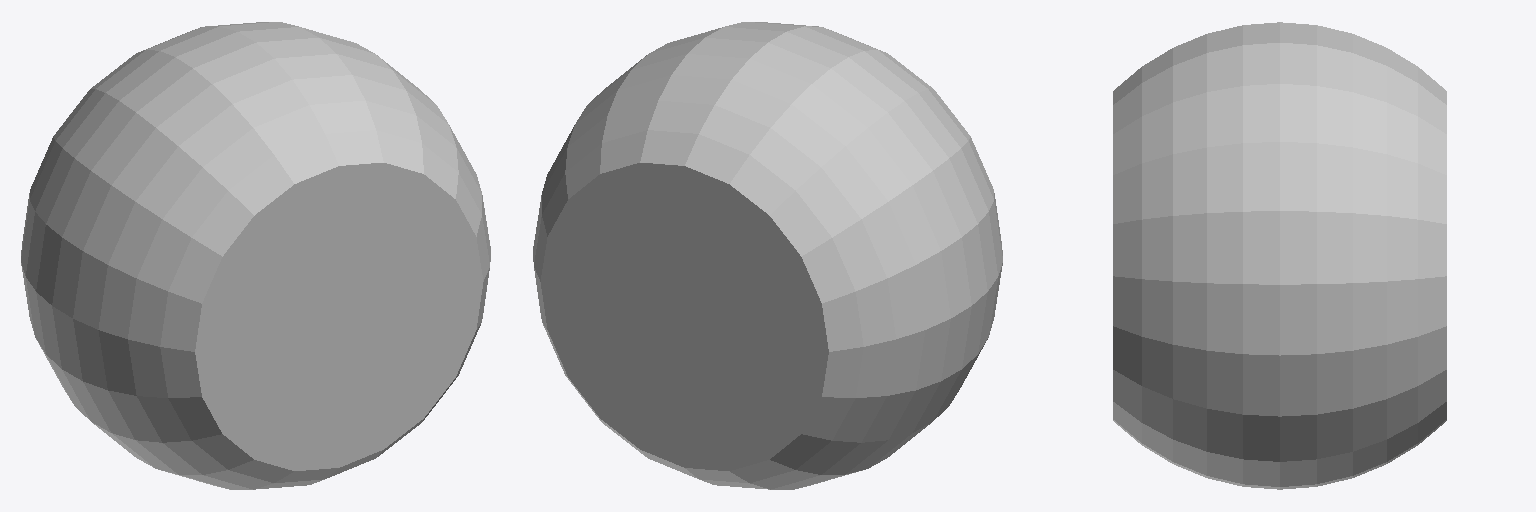
The model's file is LShoulderPitch.obj.
3 renders of one model, left to right at view 1: azimuth 30°, elevation 25°; view 2: azimuth 150°, elevation 25°; view 3: azimuth 270°, elevation 25°, orthographic.
Visible parts, largest first — view 1: LShoulderPitch_JULIETTE_BRAS_DR_.001; view 2: LShoulderPitch_JULIETTE_BRAS_DR_.001; view 3: LShoulderPitch_JULIETTE_BRAS_DR_.001.
Part boxes in pixels (x1,y1,x2,y2): LShoulderPitch_JULIETTE_BRAS_DR_.001: (21, 22, 490, 489); LShoulderPitch_JULIETTE_BRAS_DR_.001: (533, 22, 1002, 489); LShoulderPitch_JULIETTE_BRAS_DR_.001: (1113, 22, 1446, 489).
Size of the model in its own units: 0.832 by 0.832 by 0.5883.